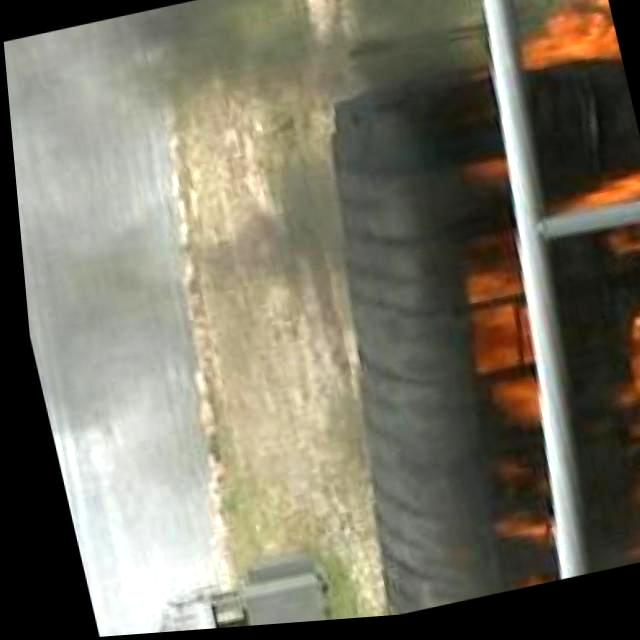fire: (440, 233, 540, 439), (575, 295, 640, 572), (468, 448, 550, 600), (508, 0, 624, 96), (540, 171, 640, 281)
